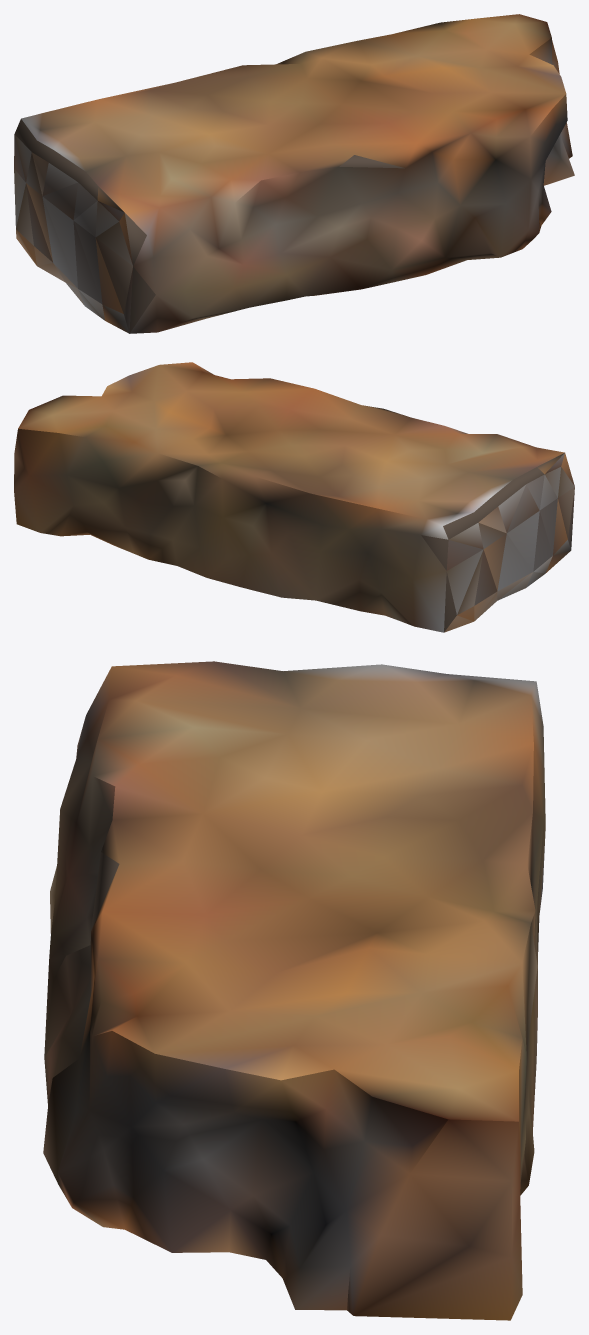
The model's file is sm_en_Brick_04_01.FBX.
The picture shows the model from 3 angles, top to bottom: view 1: azimuth 30°, elevation 25°; view 2: azimuth 150°, elevation 25°; view 3: azimuth 270°, elevation 25°; orthographic projection. The views are drawn at different scales.
Parts seen in each view (by area): view 1: sm_en_Brick_04_01_LOD0; view 2: sm_en_Brick_04_01_LOD0; view 3: sm_en_Brick_04_01_LOD0.
Part boxes in pixels (bbox=[...]): sm_en_Brick_04_01_LOD0: bbox=[14, 14, 574, 333]; sm_en_Brick_04_01_LOD0: bbox=[14, 362, 574, 632]; sm_en_Brick_04_01_LOD0: bbox=[43, 661, 545, 1320].
Size of what is drawn, in the model's own units: 26.17 by 12.34 by 6.49.
